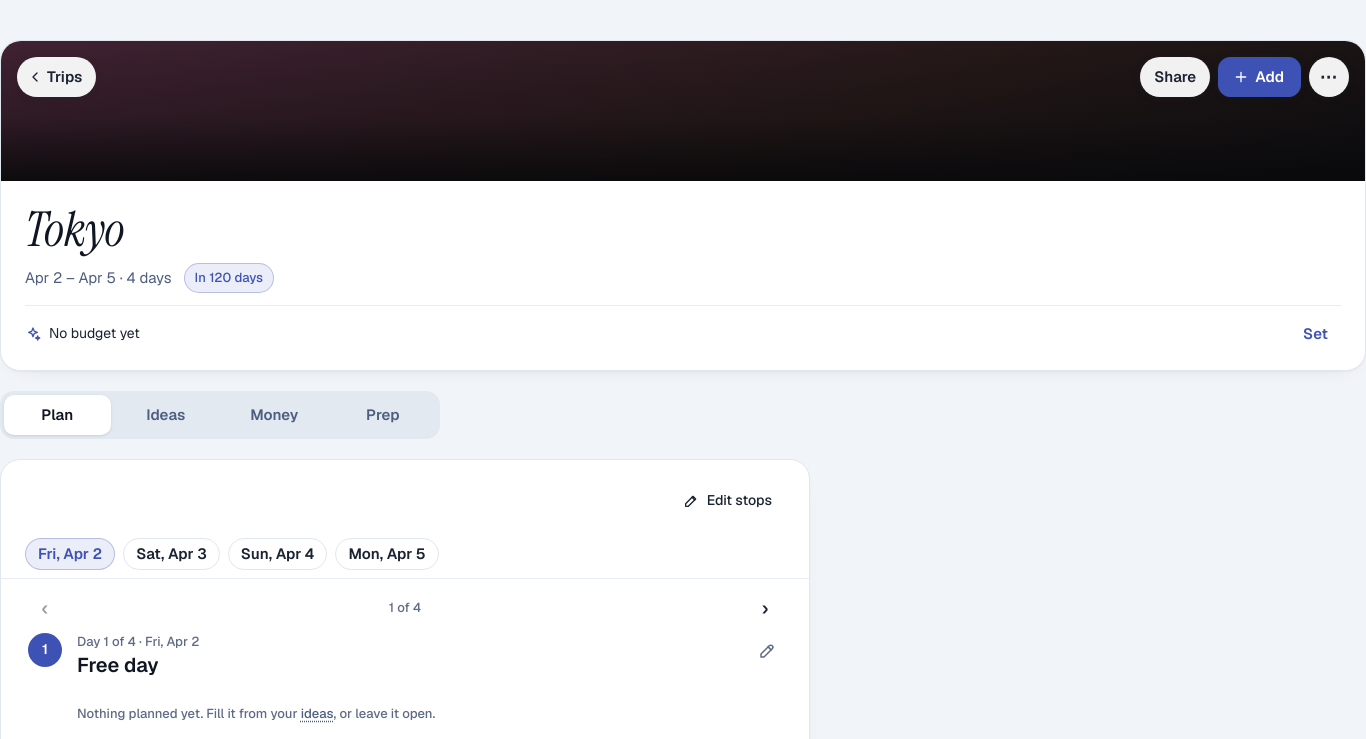
Scenario: getting around and directions › is left out of the menu when the trip has no maps or routes
The width and height of the screenshot is (1366, 739).
Click the button named "Trip options". click: (1329, 77)
box: [1309,57,1349,97]
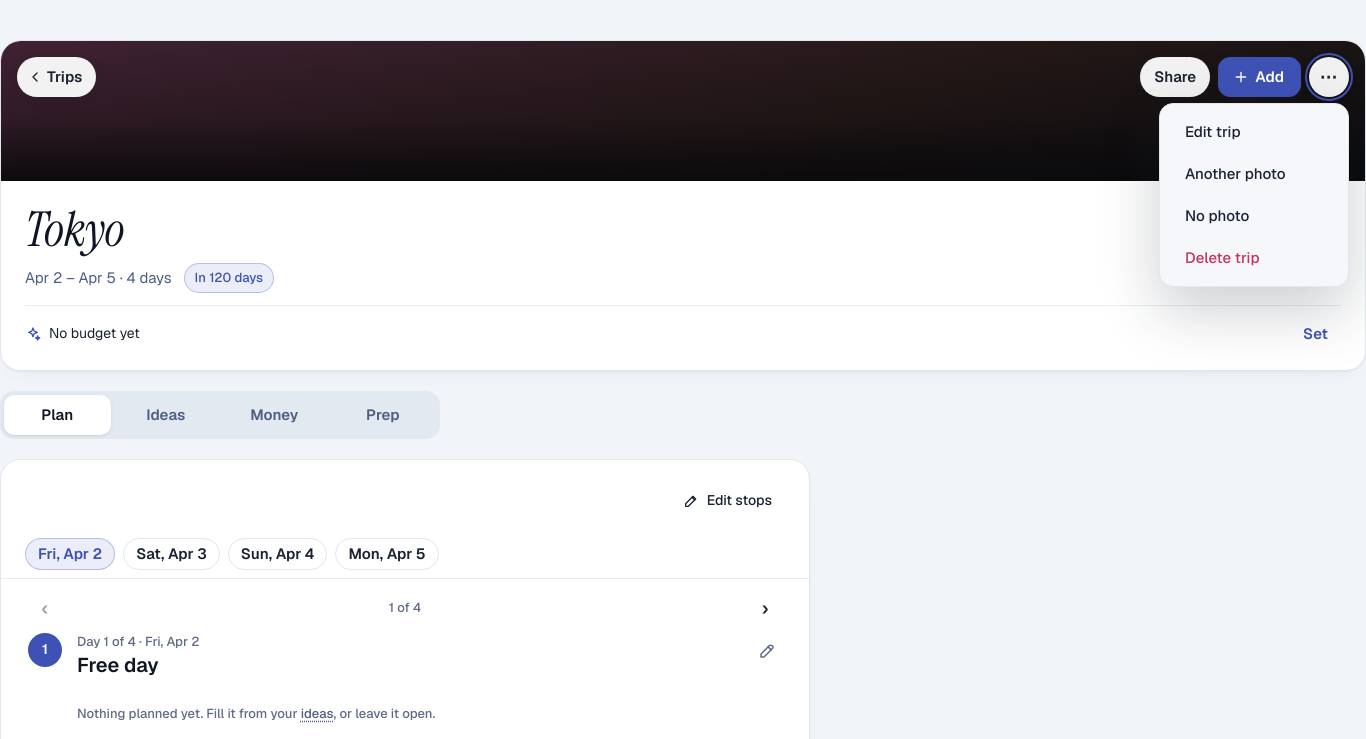
Now the menu item "Edit trip" is shown, box [1168,112,1340,152]
